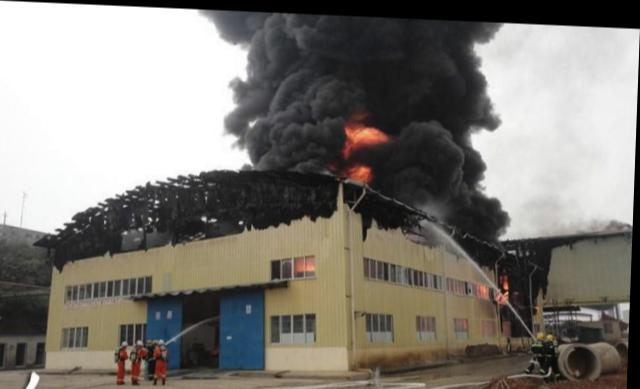fire: (344, 120, 385, 143), (345, 159, 372, 178), (307, 250, 317, 267), (295, 252, 304, 268), (497, 286, 511, 296), (503, 268, 510, 282)
smoke: (208, 7, 526, 119), (385, 120, 521, 225), (214, 114, 340, 165)
